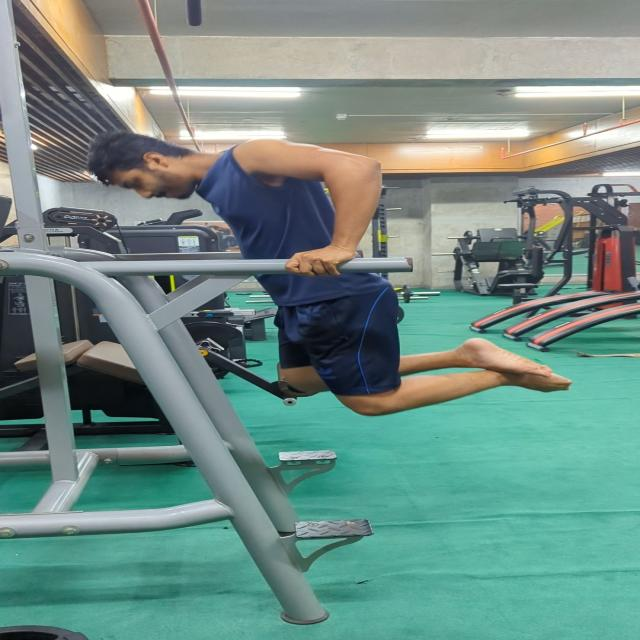Normal_Dips: (86, 125, 581, 427)
